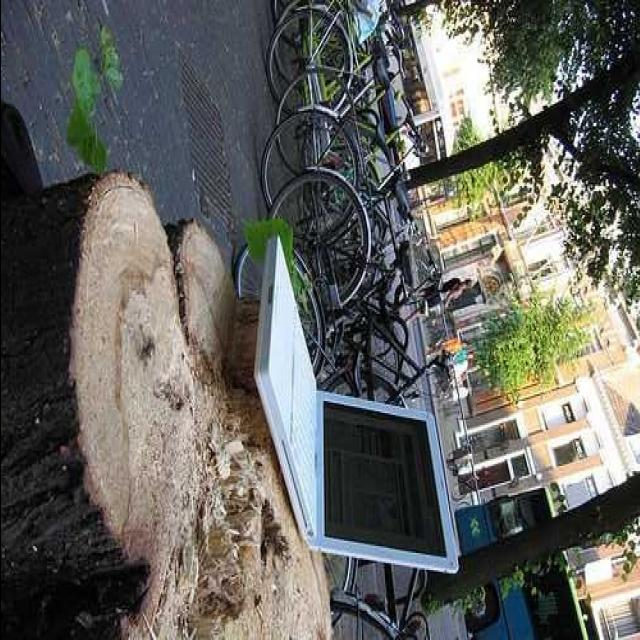laptop: (240, 232, 456, 572)
